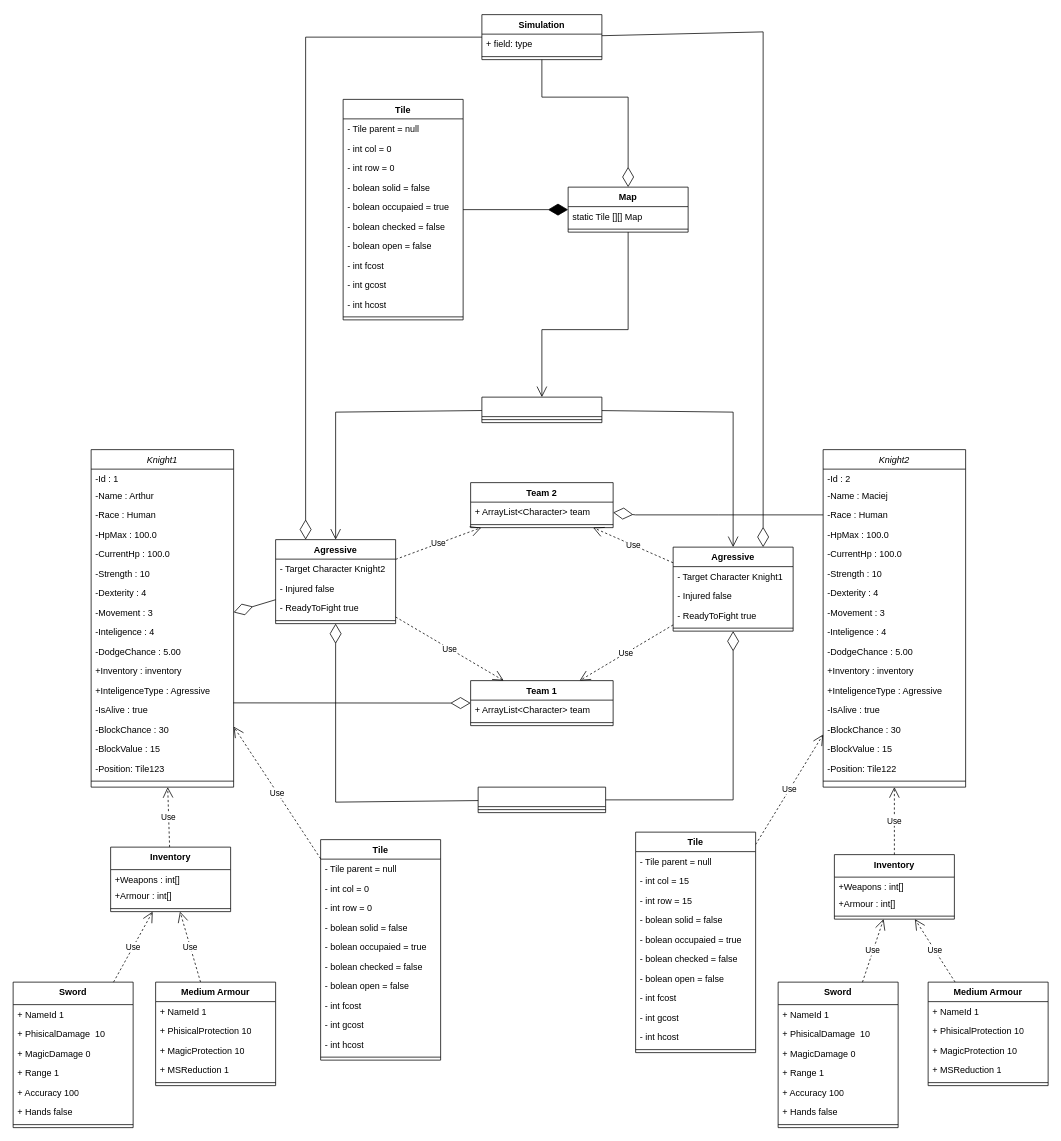
The diagram is 1061 pixels wide and 1141 high, and some of its shapes have lost their labels. The shapes that lost their labels are listed below. From the top down, each one's centre as x and y in pixels, then its label:
(541,409): MovesAndPaths
(541,799): Combat
